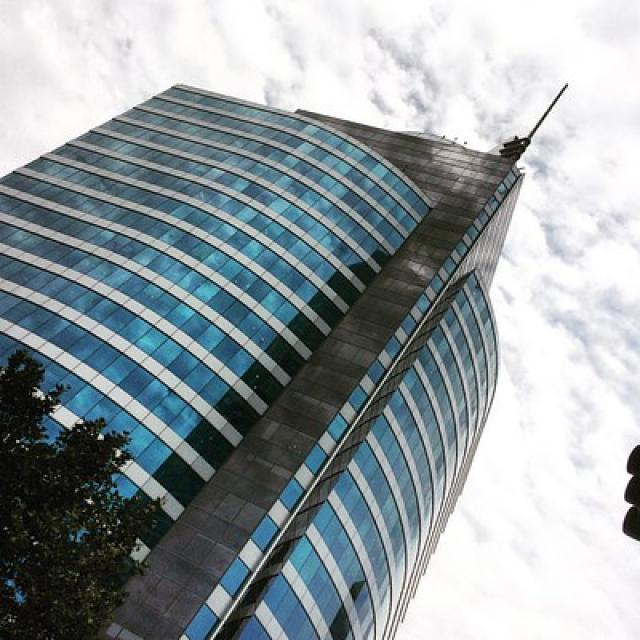Normal_building: (3, 64, 525, 640)
